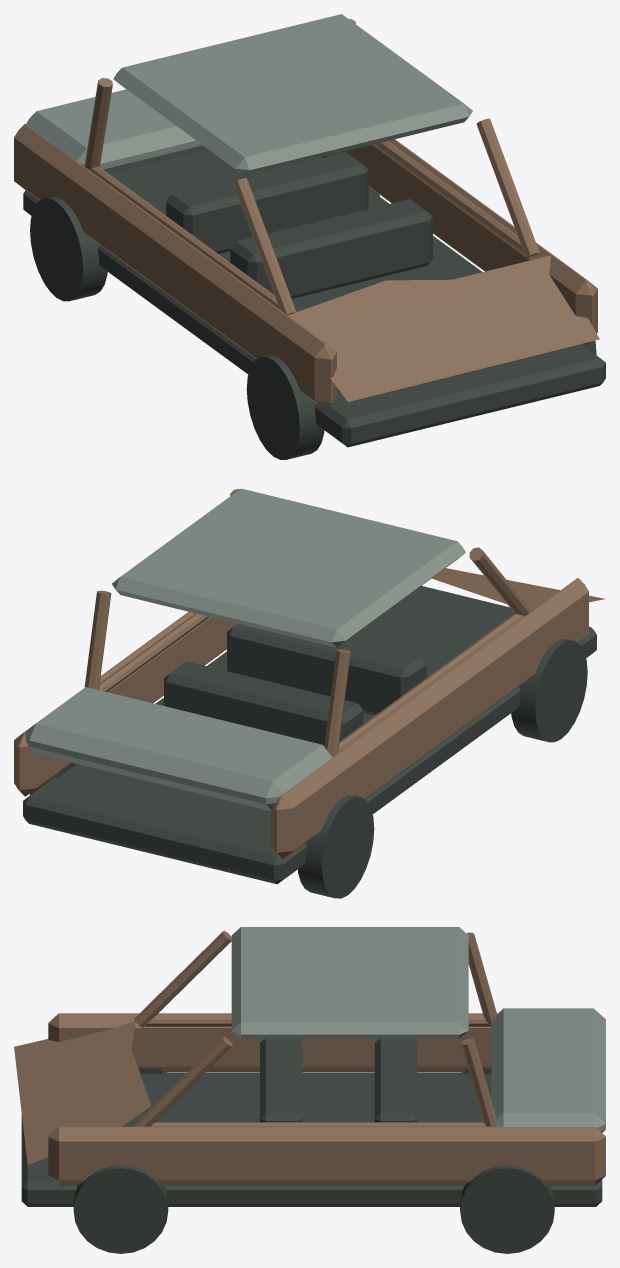
The model's file is 041_crumpled_passenger_car_shell.glb.
3 renders of one model, top to bottom at view 1: azimuth 30°, elevation 25°; view 2: azimuth 150°, elevation 25°; view 3: azimuth 270°, elevation 25°, orthographic. The views are drawn at different scales.
Visible parts, largest first — view 1: PRP-041_body, Car_roof, Crumpled_bonnet, Car_floor, PRP-041_seat_remnants, PRP-041_wheels, PRP-041_window_frames; view 2: PRP-041_body, Car_roof, Car_floor, PRP-041_seat_remnants, PRP-041_wheels, PRP-041_window_frames, Crumpled_bonnet; view 3: PRP-041_body, Car_roof, Car_floor, PRP-041_wheels, Crumpled_bonnet, PRP-041_window_frames, PRP-041_seat_remnants.
Boxes of the visible parts, x1,y1,x2,y2 form: PRP-041_body: (14,89,597,409); Car_roof: (113,14,472,175); Crumpled_bonnet: (288,255,599,401); Car_floor: (23,149,605,447); PRP-041_seat_remnants: (166,152,432,298); PRP-041_wheels: (30,156,596,459); PRP-041_window_frames: (84,18,539,315); PRP-041_body: (14,578,588,859); Car_roof: (112,488,465,647); Car_floor: (23,586,596,884); PRP-041_seat_remnants: (164,624,426,745); PRP-041_wheels: (29,639,587,898); PRP-041_window_frames: (84,489,531,756); Crumpled_bonnet: (431,568,604,610); PRP-041_body: (48,1008,605,1185); Car_roof: (231,927,468,1039); Car_floor: (21,1072,602,1206); PRP-041_wheels: (73,1068,554,1253); Crumpled_bonnet: (14,1020,151,1164); PRP-041_window_frames: (134,930,497,1126); PRP-041_seat_remnants: (260,1039,417,1122).
Size of the model in its own units: 2 by 1.55 by 3.88.
